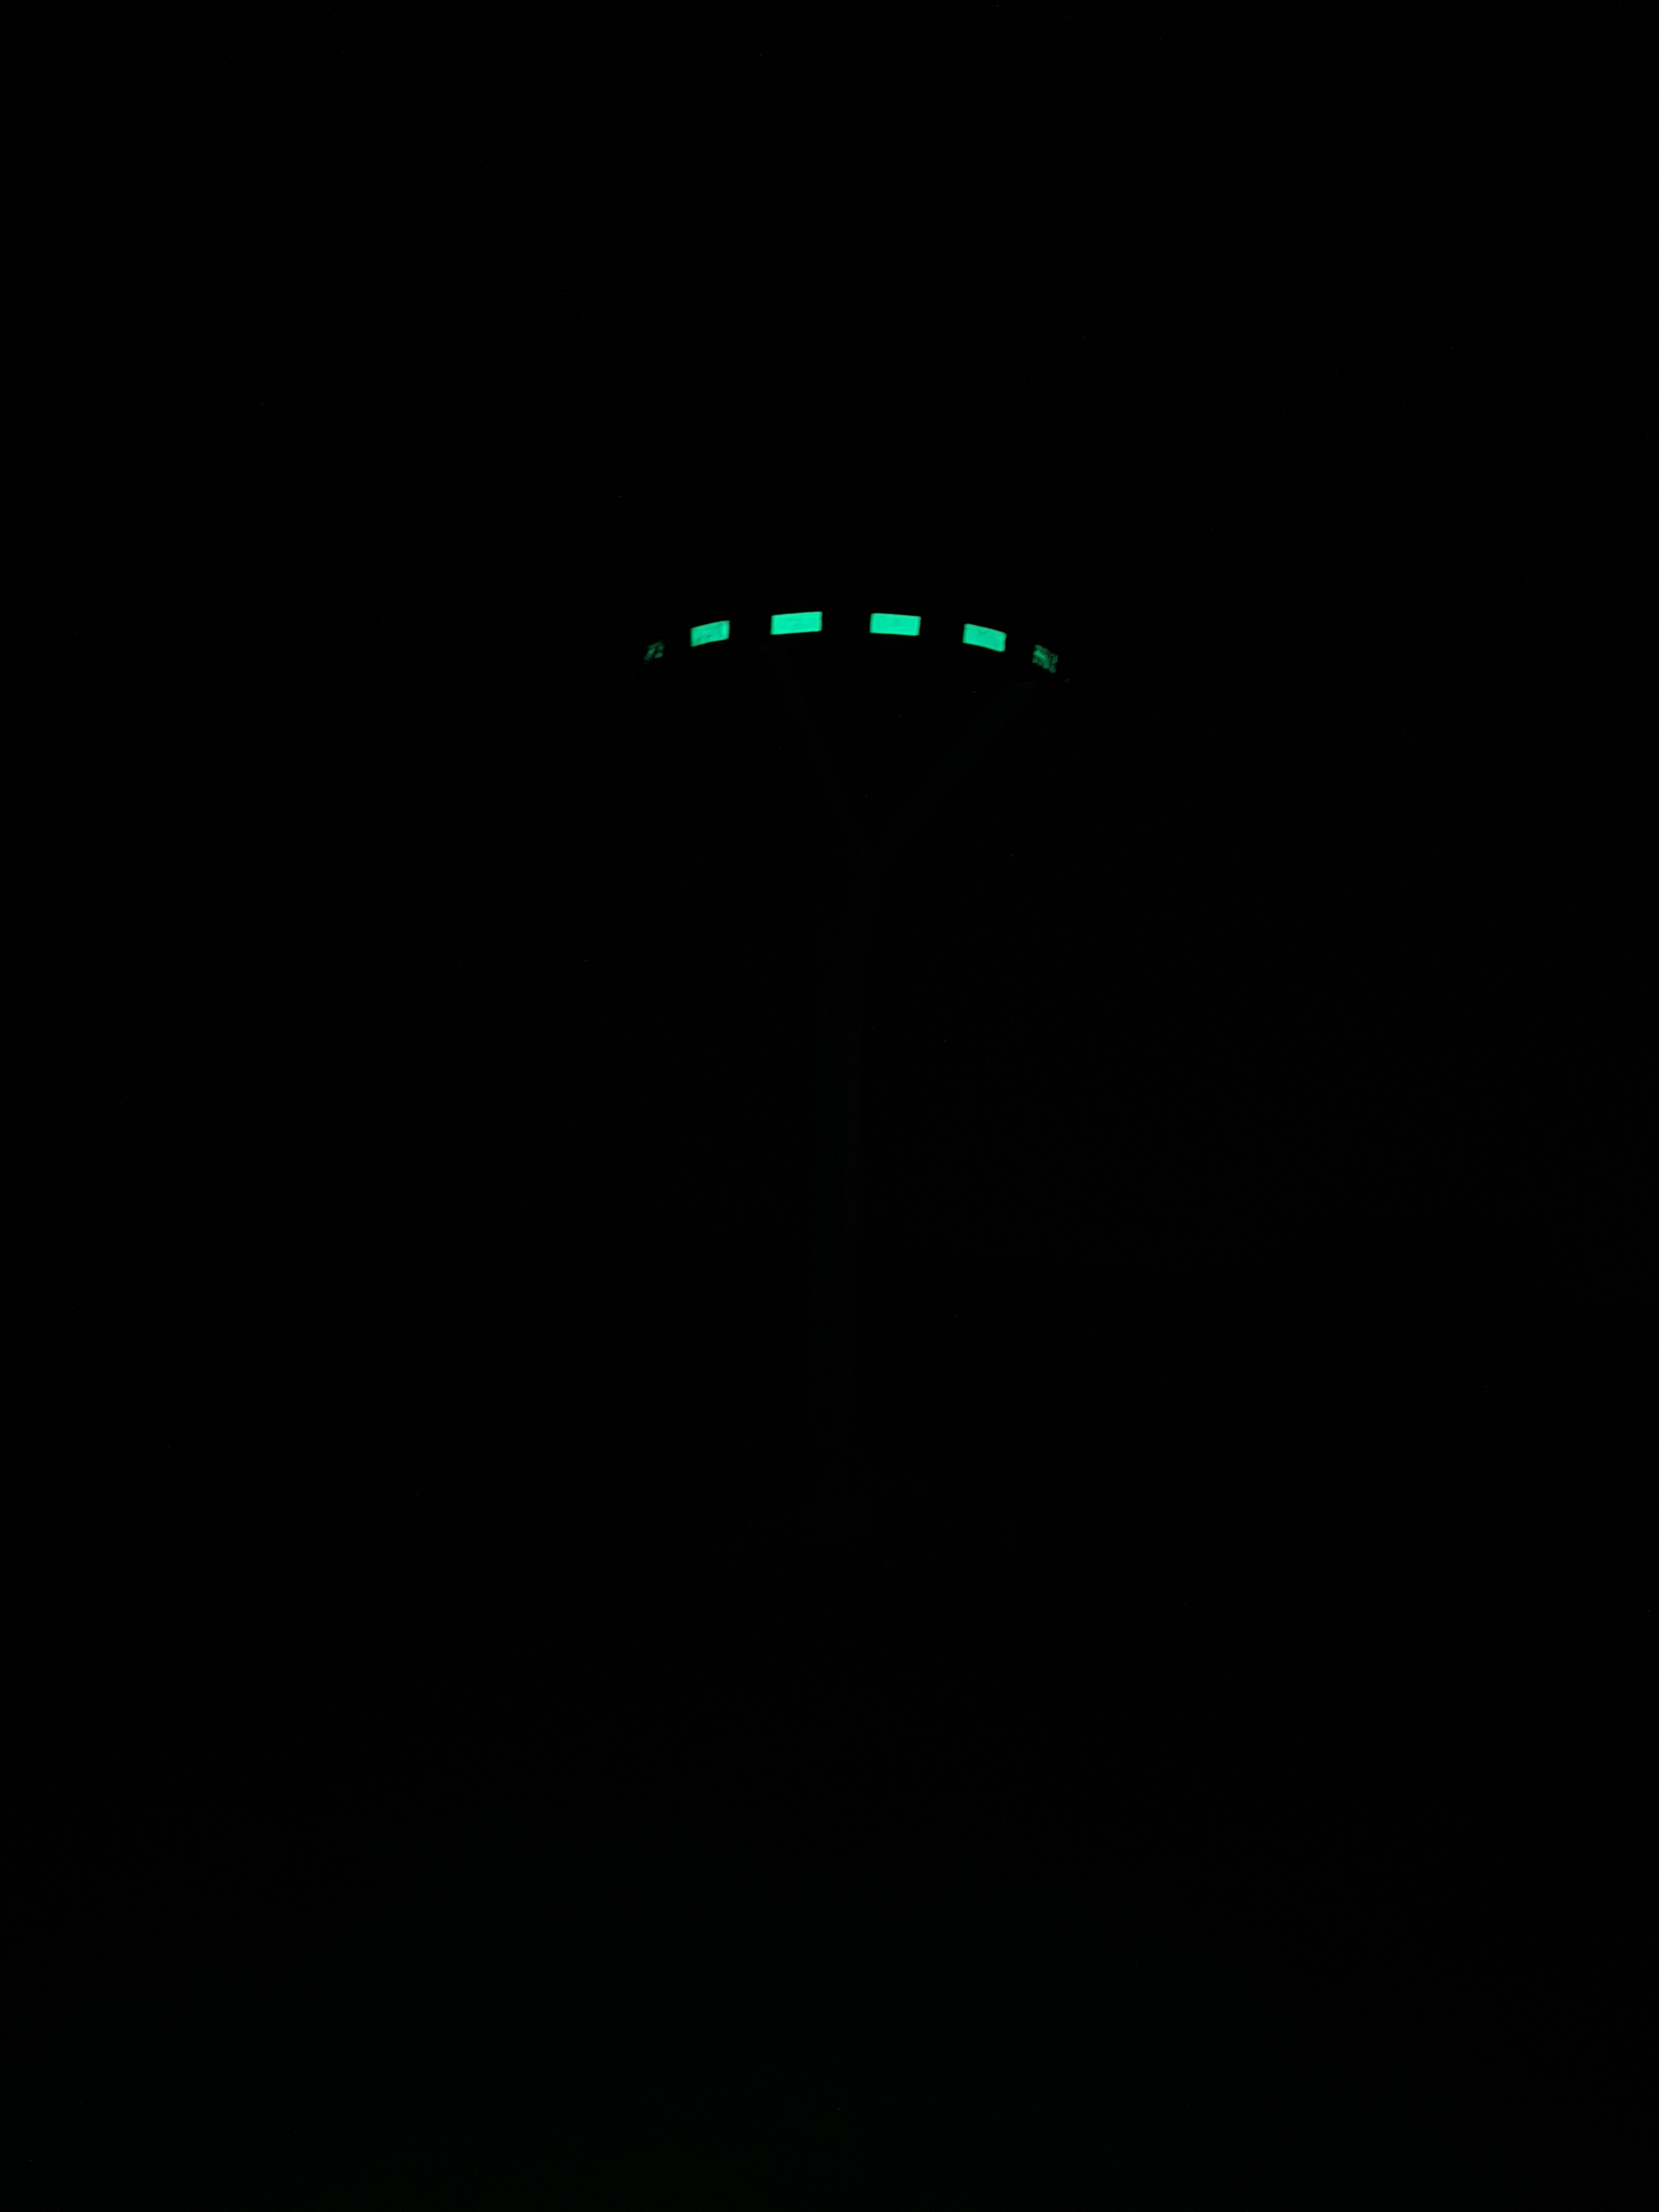hoop: (641, 610, 1056, 676)
